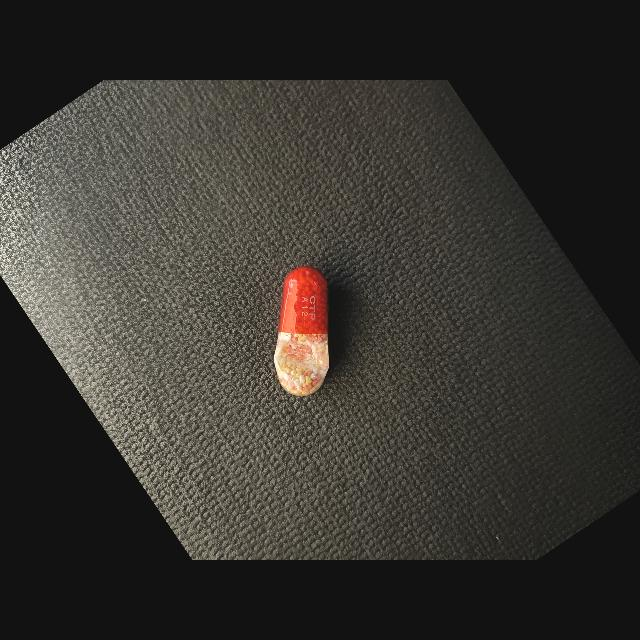Defective Capsule: (274, 266, 329, 396)
